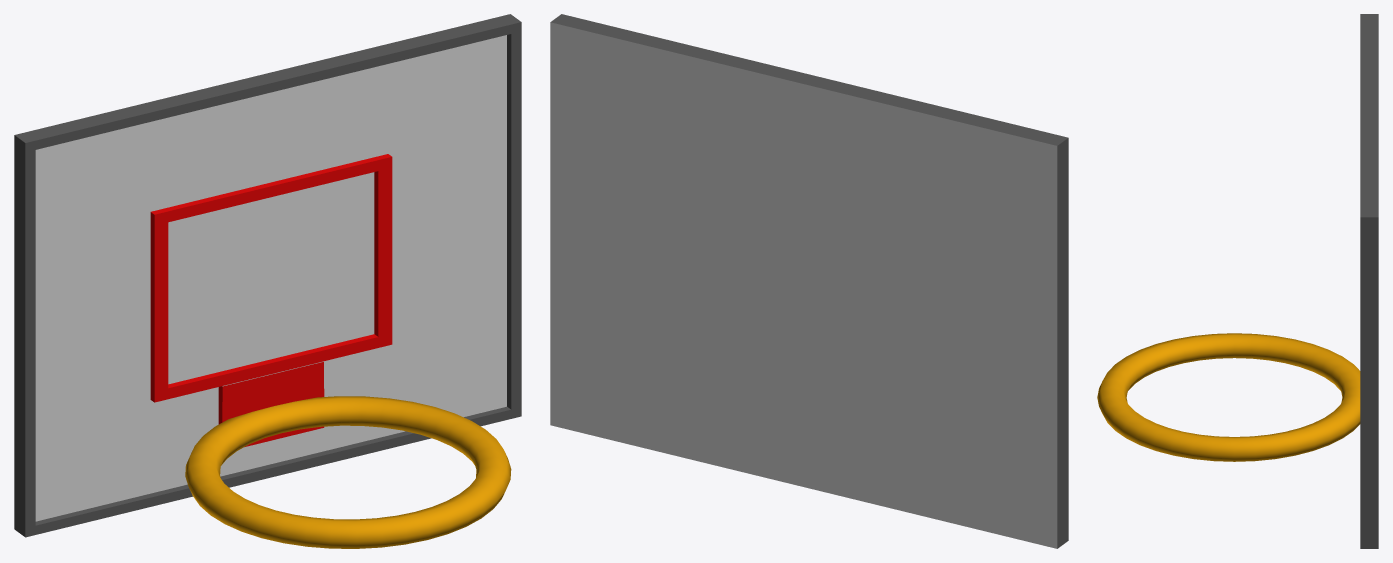
3 renders of one model, left to right at view 1: azimuth 30°, elevation 25°; view 2: azimuth 150°, elevation 25°; view 3: azimuth 270°, elevation 25°, orthographic. The views are drawn at different scales.
Visible parts, largest first — view 1: basketball01:pCube2; view 2: basketball01:pCube2; view 3: basketball01:pCube2.
Boxes of the visible parts, x1,y1,x2,y2 form: basketball01:pCube2: (14, 14, 521, 548); basketball01:pCube2: (550, 14, 1068, 548); basketball01:pCube2: (1097, 14, 1378, 548).
Bounding box in the file's own units: 4.95 × 3.76 × 2.89.
